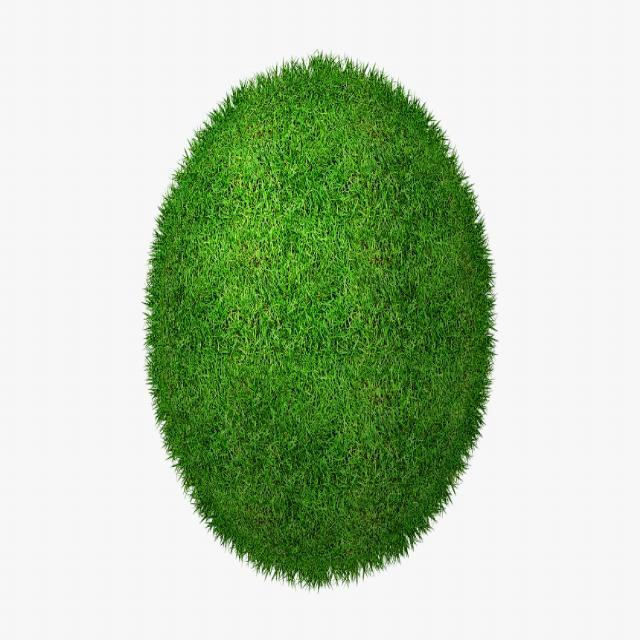Circle: (144, 56, 492, 584)
